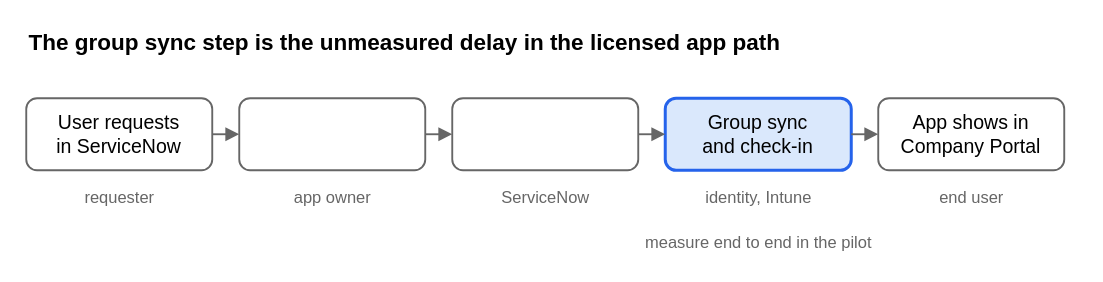
This 1103x282 diagram has some shape labels left out. Here are the shapes that lost their labels. From the top down, the box of each, then its label:
(238, 97, 426, 171): Approver signs off
(451, 97, 639, 171): Add user to group
